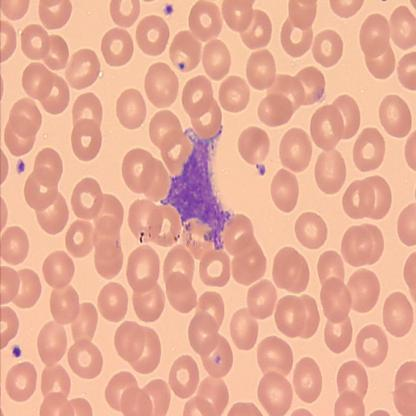Myelocyte: (160, 124, 233, 249)
